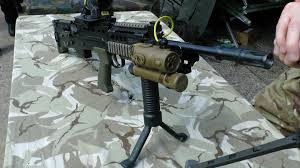gun: (51, 0, 275, 166)
